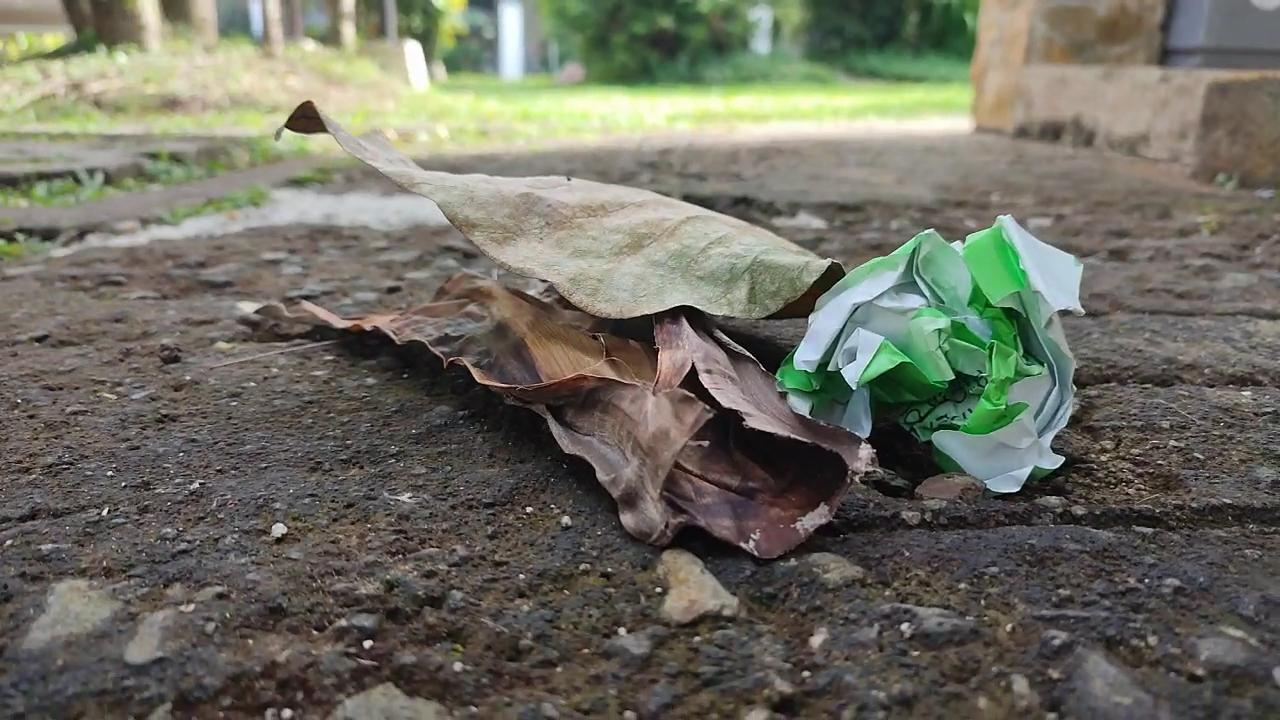Paper: (763, 197, 1090, 502)
